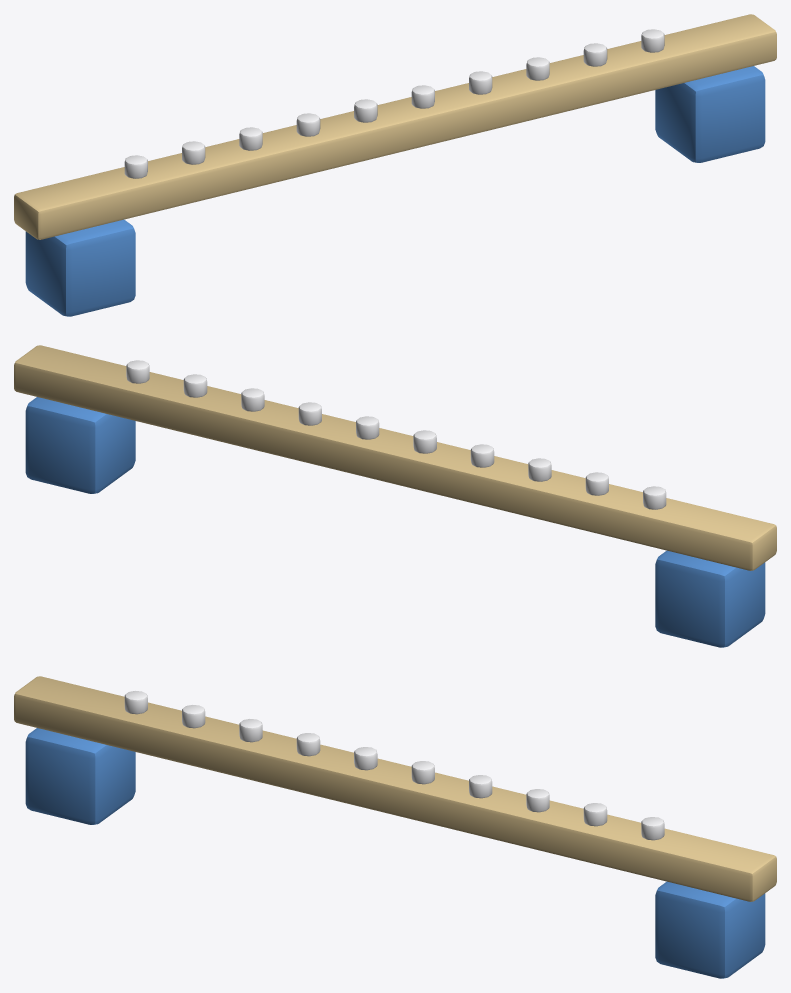
File: ELE-QDR-008.glb
3 views of the same model, one above another, from view 1: azimuth 30°, elevation 25°; view 2: azimuth 150°, elevation 25°; view 3: azimuth 330°, elevation 25° (orthographic).
Visible parts, largest first — view 1: ELE-QDR-008_barra, ELE-QDR-008_isolador-1, ELE-QDR-008_isolador1, ELE-QDR-008_parafuso8; view 2: ELE-QDR-008_barra, ELE-QDR-008_isolador-1, ELE-QDR-008_isolador1, ELE-QDR-008_parafuso8; view 3: ELE-QDR-008_barra, ELE-QDR-008_isolador1, ELE-QDR-008_isolador-1.
Boxes of the visible parts, box(x1,y1,x2,y2) form: ELE-QDR-008_barra: box(14, 14, 776, 239); ELE-QDR-008_isolador-1: box(25, 219, 135, 316); ELE-QDR-008_isolador1: box(655, 66, 765, 162); ELE-QDR-008_parafuso8: box(583, 43, 607, 66); ELE-QDR-008_barra: box(14, 345, 776, 570); ELE-QDR-008_isolador-1: box(655, 550, 765, 647); ELE-QDR-008_isolador1: box(25, 397, 135, 493); ELE-QDR-008_parafuso8: box(183, 374, 207, 397); ELE-QDR-008_barra: box(14, 676, 776, 901); ELE-QDR-008_isolador1: box(655, 881, 765, 978); ELE-QDR-008_isolador-1: box(25, 728, 135, 824).
Bounding box in the file's own units: 0.2 × 0.032 × 0.02.
